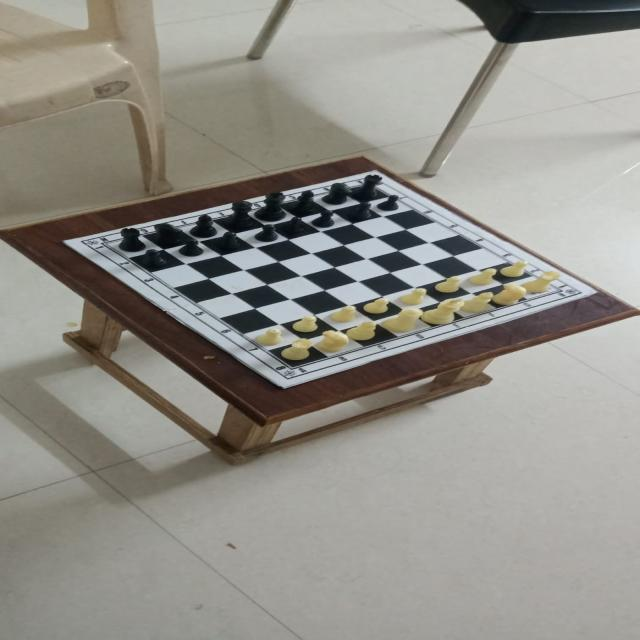corners: (273, 384, 295, 392), (367, 166, 383, 175), (54, 238, 73, 245), (590, 290, 606, 296)
